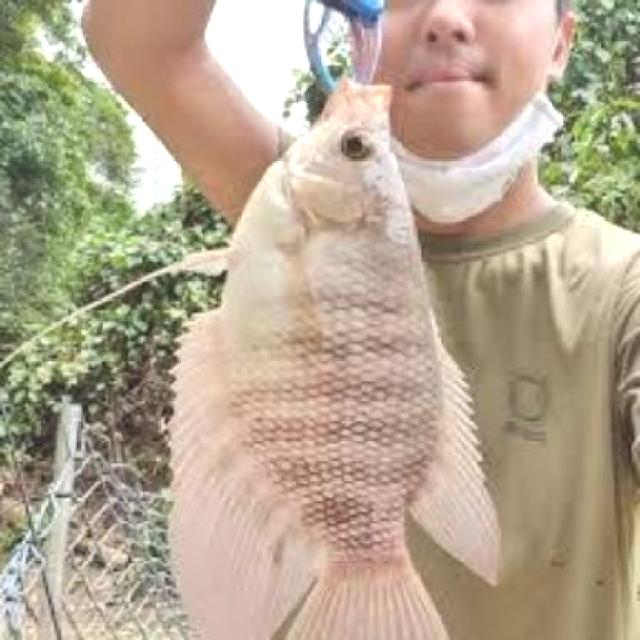gurame: (169, 84, 508, 638)
